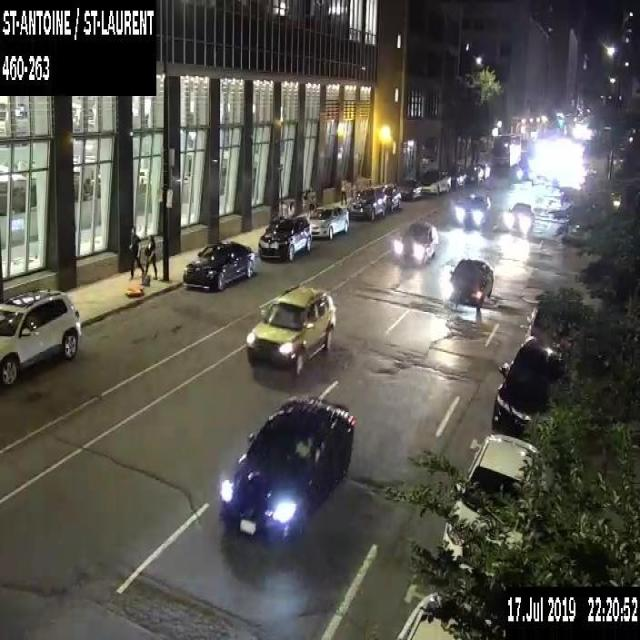bus: (492, 131, 520, 166)
construction: (125, 272, 150, 294)
pedestrian: (128, 226, 144, 278), (143, 234, 157, 278), (304, 188, 312, 214), (339, 176, 346, 204)
vehicle: (220, 390, 355, 546), (441, 433, 545, 577), (490, 336, 570, 446), (244, 282, 337, 374), (0, 285, 81, 384), (395, 590, 505, 638), (182, 239, 254, 291), (522, 304, 572, 355), (257, 215, 311, 260), (447, 257, 494, 305), (398, 220, 438, 261), (306, 203, 348, 240), (346, 184, 386, 220), (455, 192, 490, 224), (420, 168, 450, 195), (561, 219, 589, 247), (507, 199, 534, 228), (380, 182, 401, 210), (398, 178, 422, 200), (447, 166, 467, 188), (516, 162, 534, 183), (465, 163, 483, 183), (477, 162, 490, 180)
